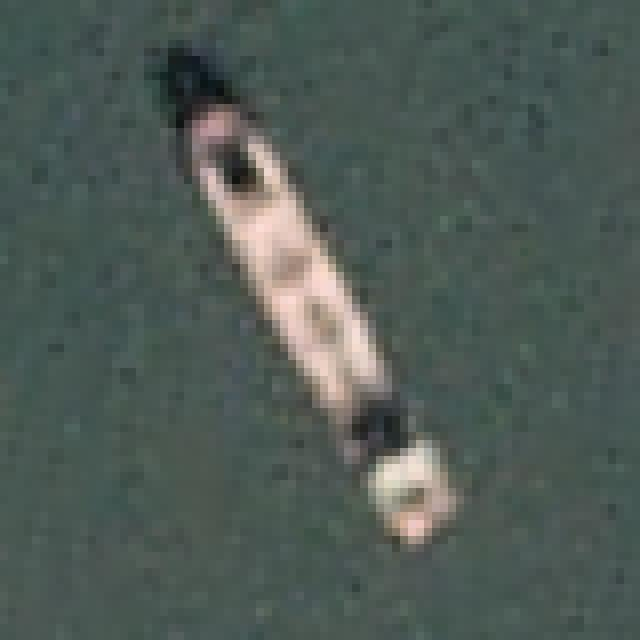ship: (144, 28, 490, 584)
